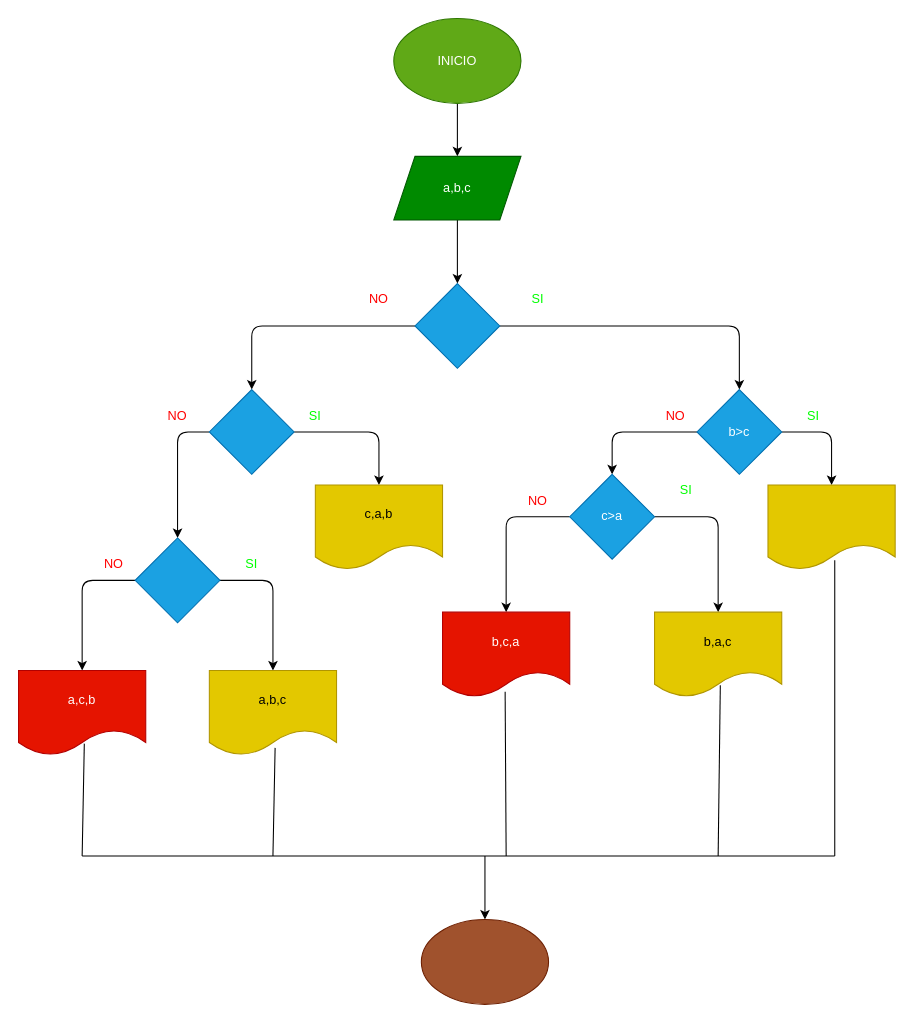
This 914x1023 diagram has some shape labels left out. Each missing label, with the centre of its shape:
"a>b" belongs at point (457, 325).
"a>c" belongs at point (251, 431).
"c,b,a" belongs at point (831, 527).
"c>b" belongs at point (177, 580).
"FIN" belongs at point (484, 961).
